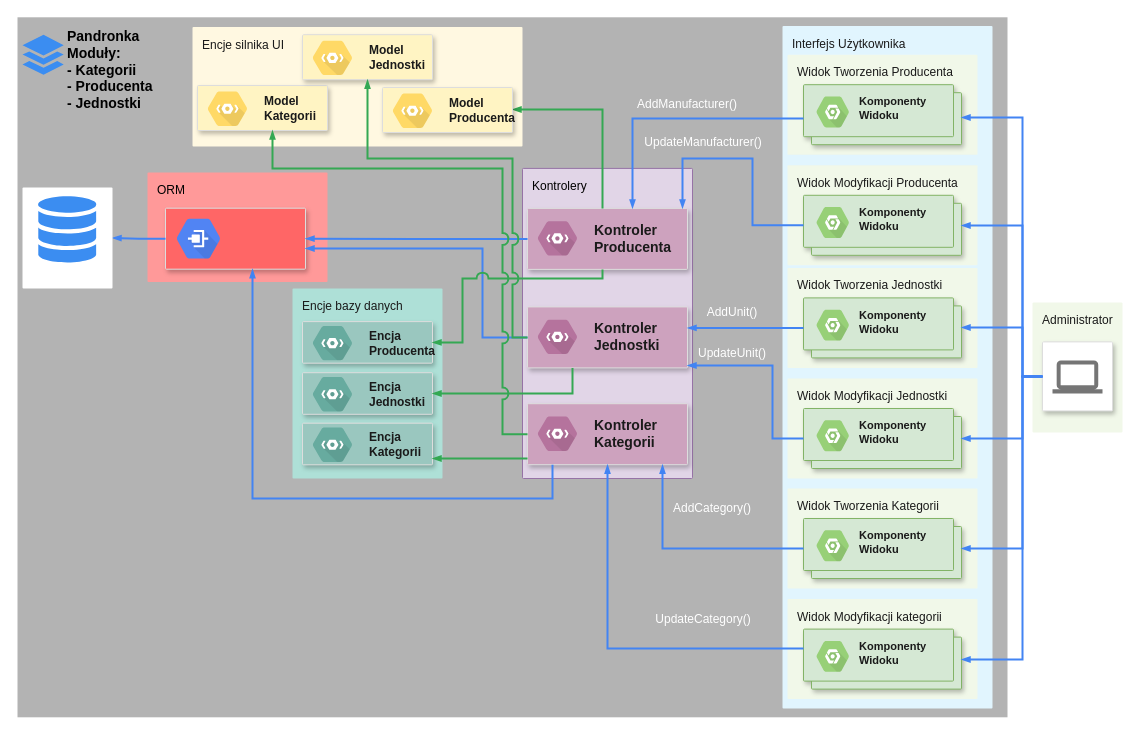
Some shapes in this 1139 by 734 pixel diagram are drawn without their labels. Each missing label, with the centre of its shape:
"Adapter dostępowy" belongs at point 198,238.
"Baza danych" belongs at point 67,229.
